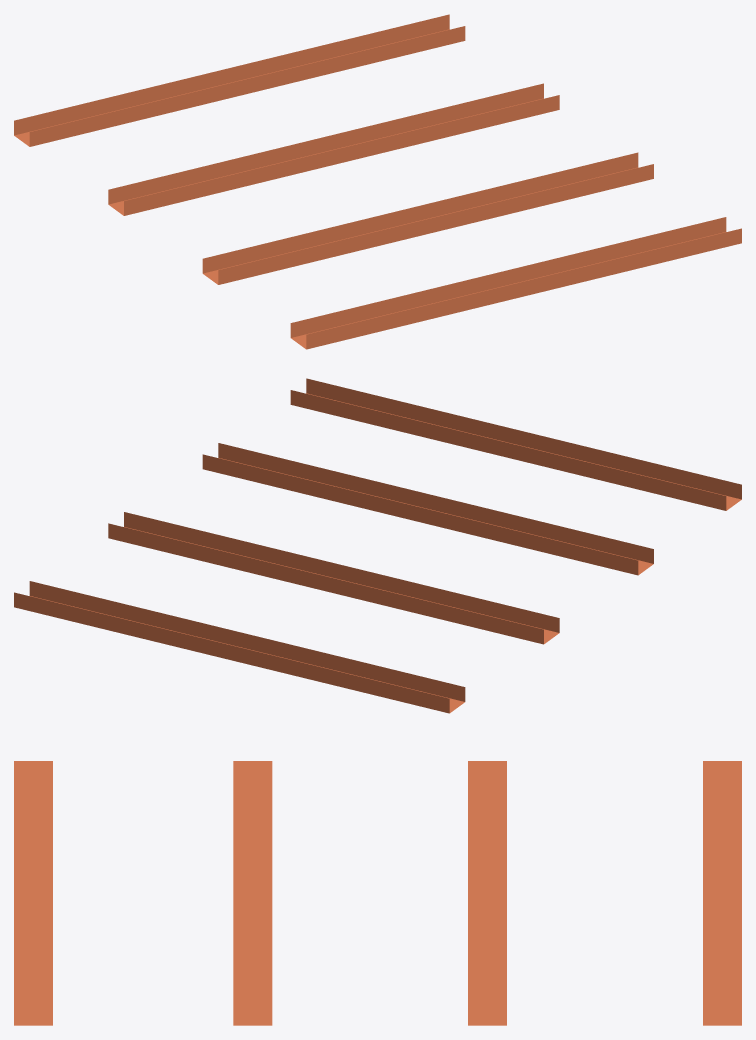
The model's file is sm_beams.fbx.
3 views of the same model, one above another, from view 1: azimuth 30°, elevation 25°; view 2: azimuth 150°, elevation 25°; view 3: azimuth 270°, elevation 25° (orthographic). The views are drawn at different scales.
Parts seen in each view (by area): view 1: sm_beams.002, sm_beams.003, sm_beams.004, sm_beams.001; view 2: sm_beams.004, sm_beams.002, sm_beams.003, sm_beams.001; view 3: sm_beams.003, sm_beams.001, sm_beams.002, sm_beams.004.
Part boxes in pixels (x1,y1,x2,y2): sm_beams.002: (290,217,741,349); sm_beams.003: (202,152,653,284); sm_beams.004: (14,14,465,146); sm_beams.001: (108,83,559,215); sm_beams.004: (14,581,465,713); sm_beams.002: (290,378,741,510); sm_beams.003: (202,443,653,575); sm_beams.001: (108,512,559,644); sm_beams.003: (233,761,272,1025); sm_beams.001: (468,761,506,1025); sm_beams.002: (14,761,52,1025); sm_beams.004: (703,761,741,1025).
Bounding box in the file's own units: 400 × 13.08 × 465.
